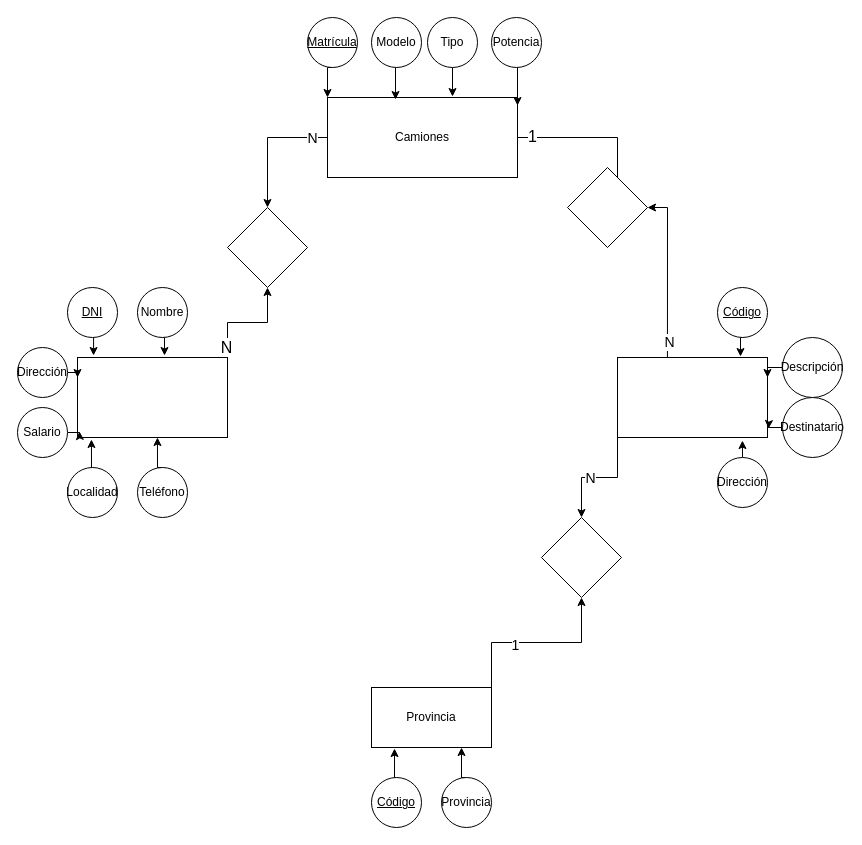
Image size: 862x845. Some labels were removed from this diagram. Here are the shapes that lost their labels. From the top down, the centre of each, then its label:
At pixel 607 207: "Lleva".
At pixel 267 247: "Conduce".
At pixel 152 397: "Camioneros".
At pixel 692 397: "Paquete".
At pixel 581 557: "Llega a".
